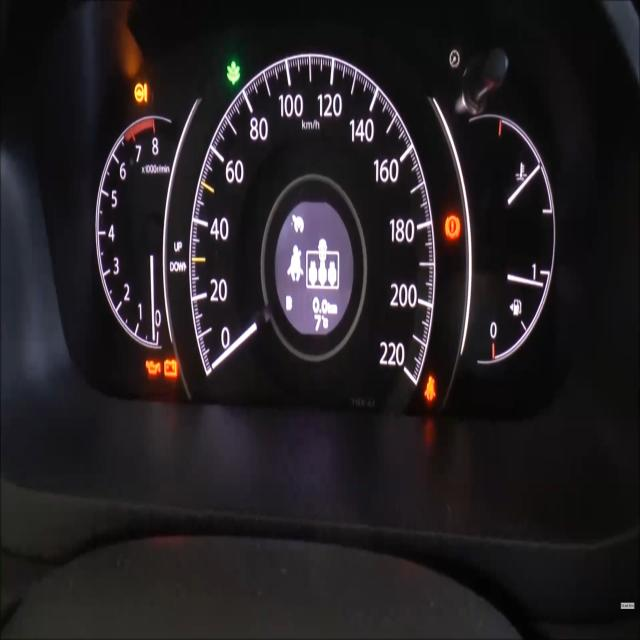Braking System Issue: (444, 214, 460, 240)
Charging System Issue: (164, 359, 177, 376)
Low Engine Oil Warning Light: (145, 360, 161, 375)
